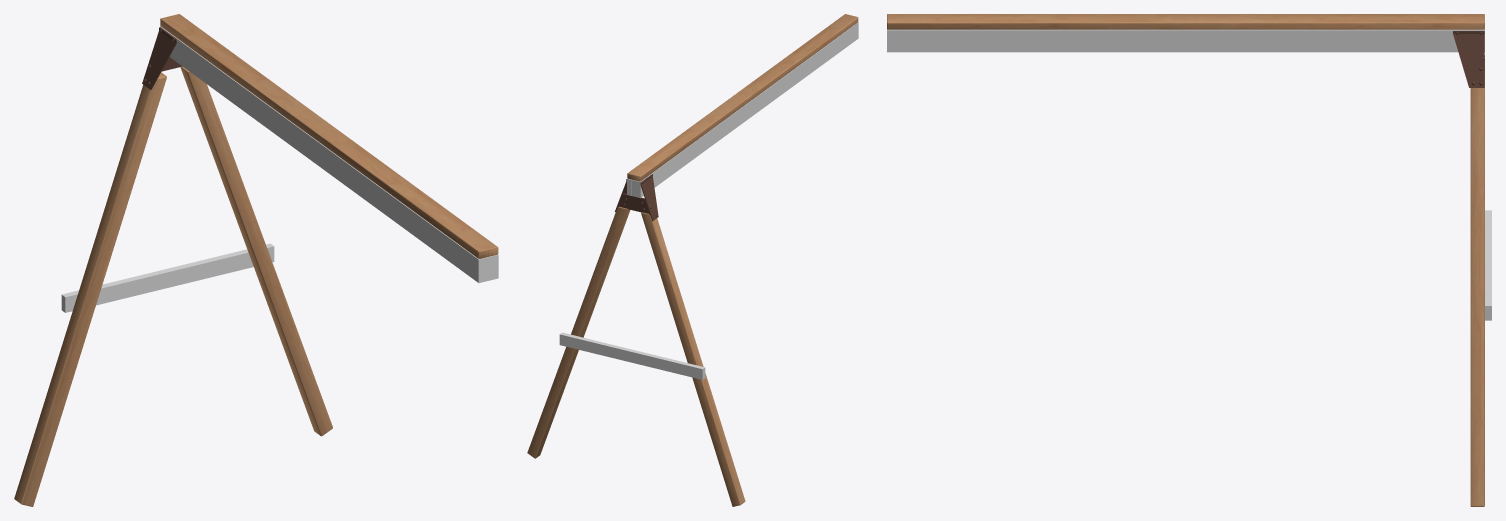
3 views of the same model, side by side, from view 1: azimuth 30°, elevation 25°; view 2: azimuth 150°, elevation 25°; view 3: azimuth 270°, elevation 25° (orthographic). The views are drawn at different scales.
Visible parts, largest first — view 1: Plane049, Plane049_1,_colorize_, Plane049_2; view 2: Plane049, Plane049_1,_colorize_, Plane049_2; view 3: Plane049, Plane049_1,_colorize_, Plane049_2.
Boxes of the visible parts, x1,y1,x2,y2 form: Plane049: (14,14,498,506); Plane049_1,_colorize_: (61,26,498,312); Plane049_2: (142,27,182,89); Plane049: (527,14,858,506); Plane049_1,_colorize_: (559,22,858,379); Plane049_2: (615,174,658,221); Plane049: (887,14,1484,506); Plane049_1,_colorize_: (887,29,1491,320); Plane049_2: (1453,31,1484,87).
Bounding box in the file's own units: 2.41 × 3.33 × 4.32.
3 materials, 1 textured.
